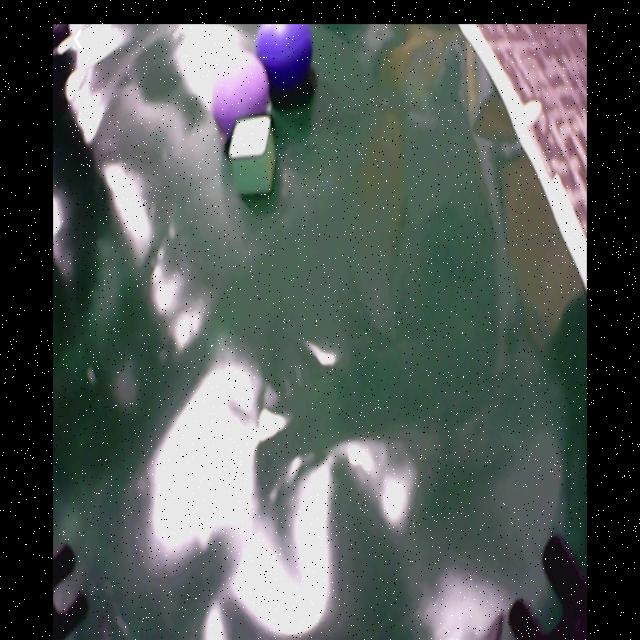ball: (214, 54, 268, 134), (257, 28, 313, 92)
